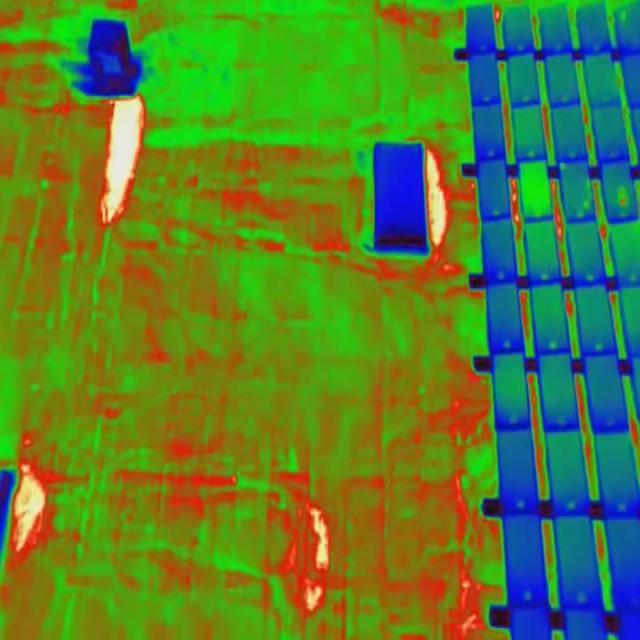Orange-Spots: (618, 188, 627, 206)
